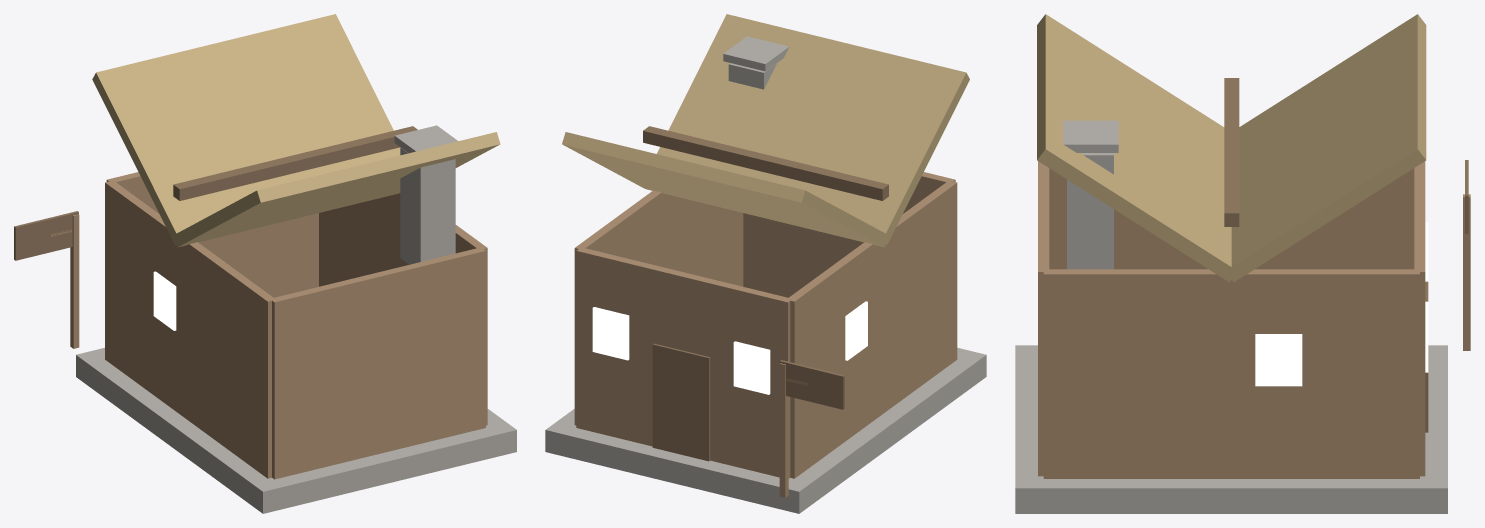
The model's file is BobsInn.fbx.
3 views of the same model, side by side, from view 1: azimuth 30°, elevation 25°; view 2: azimuth 150°, elevation 25°; view 3: azimuth 270°, elevation 25° (orthographic). The views are drawn at different scales.
Visible parts, largest first — view 1: BobsInn; view 2: BobsInn; view 3: BobsInn.
Part boxes in pixels (left/top/right/bottom): BobsInn: left=14, top=14, right=516, bottom=513; BobsInn: left=545, top=14, right=986, bottom=513; BobsInn: left=1015, top=14, right=1470, bottom=513.
Bounding box in the file's own units: 435 × 423 × 484.
